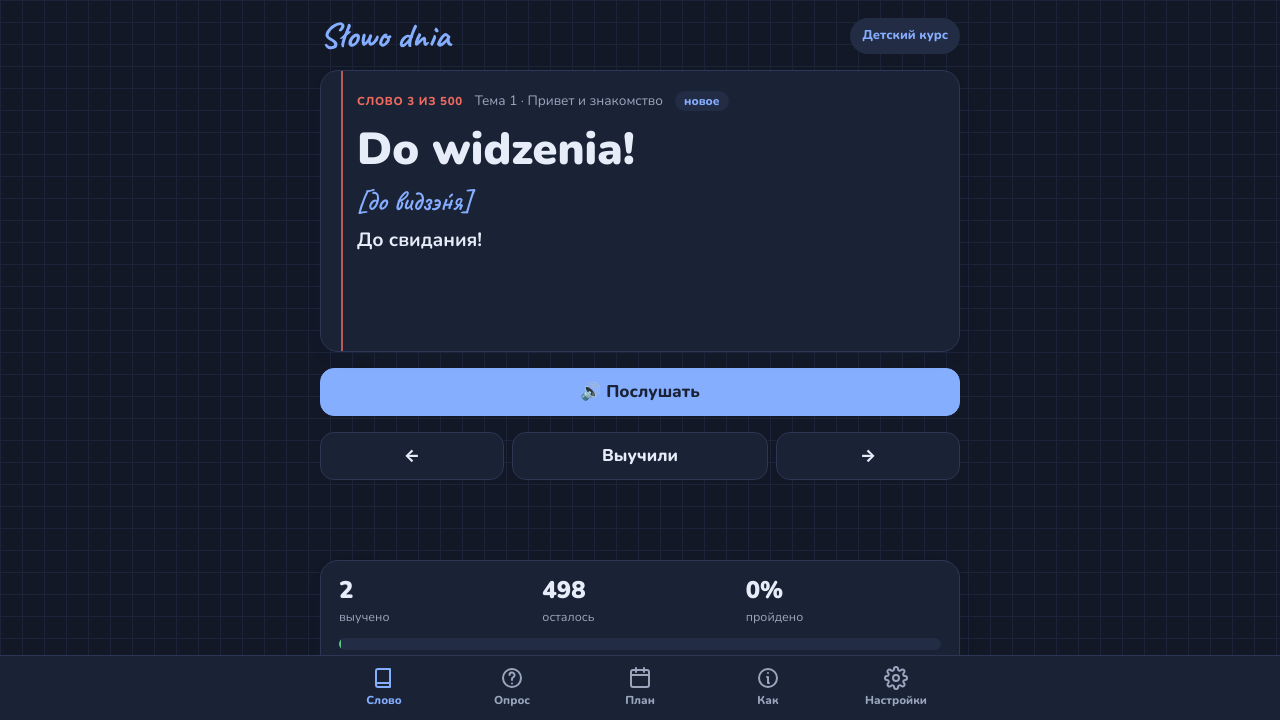
Test: word card › learned word → green "выучено" and "✓ Выучили"
The width and height of the screenshot is (1280, 720).
Step 1. Click the button named "Предыдущее слово" → (412, 456), box left=320, top=432, right=504, bottom=480
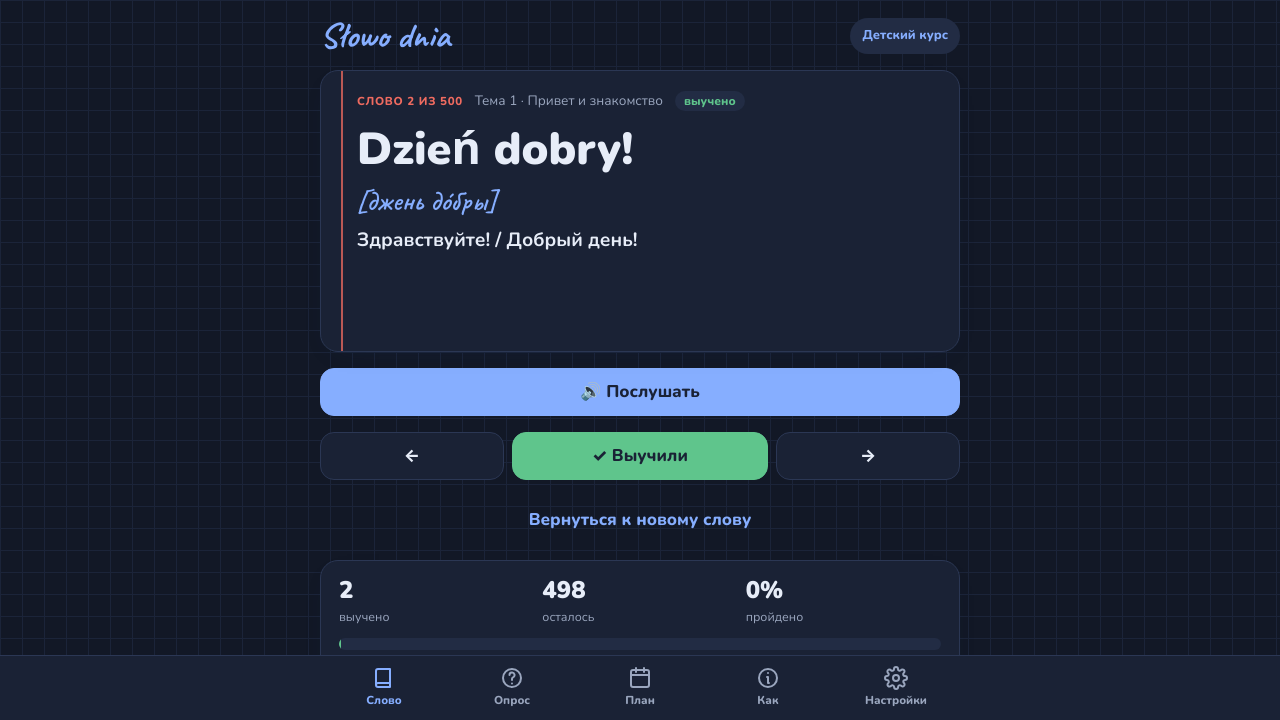
Check: the button "✓ Выучили" is shown, box left=512, top=432, right=768, bottom=480
